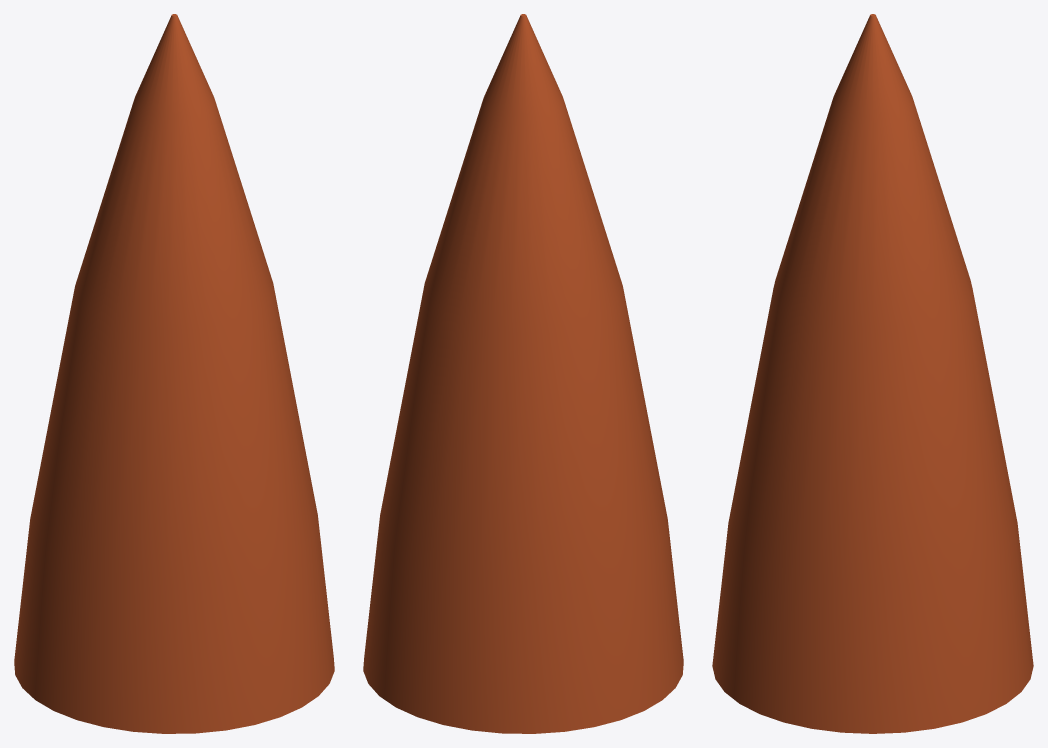
Rendered from projectile-lmg.glb.
The picture shows the model from 3 angles, left to right: view 1: azimuth 30°, elevation 25°; view 2: azimuth 150°, elevation 25°; view 3: azimuth 270°, elevation 25°; orthographic projection.
Visible parts, largest first — view 1: projectile-lmg; view 2: projectile-lmg; view 3: projectile-lmg.
Boxes of the visible parts, bbox=[...] form: projectile-lmg: bbox=[14, 14, 334, 733]; projectile-lmg: bbox=[363, 14, 683, 733]; projectile-lmg: bbox=[712, 14, 1033, 733].
Size of the model in its own units: 0.1122 by 0.2508 by 0.1122.
Materials: 1 (1 with a texture image).
